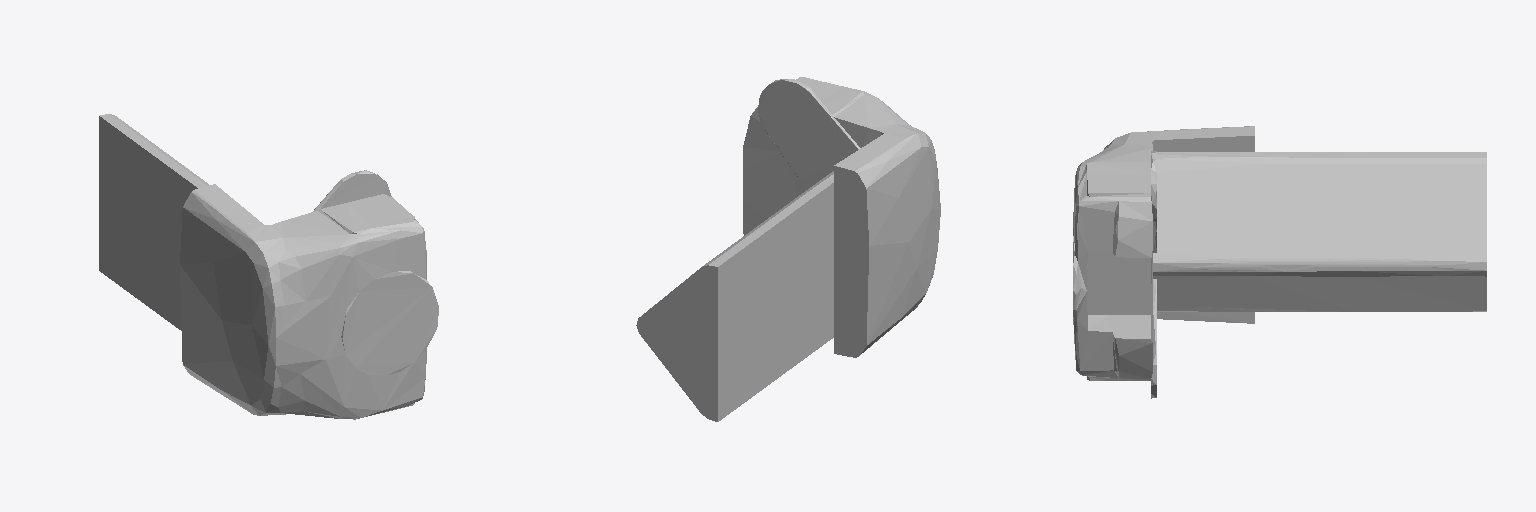
The model's file is torso_lift.obj.
3 renders of one model, left to right at view 1: azimuth 30°, elevation 25°; view 2: azimuth 150°, elevation 25°; view 3: azimuth 270°, elevation 25°, orthographic.
Visible parts, largest first — view 1: torso_M1K_torso_M1KShape; view 2: torso_M1K_torso_M1KShape; view 3: torso_M1K_torso_M1KShape.
Part boxes in pixels (bbox=[...]): torso_M1K_torso_M1KShape: bbox=[99, 114, 438, 419]; torso_M1K_torso_M1KShape: bbox=[636, 77, 940, 421]; torso_M1K_torso_M1KShape: bbox=[1073, 126, 1486, 398].
Bounding box in the file's own units: 0.4072 × 0.5279 × 0.8224.